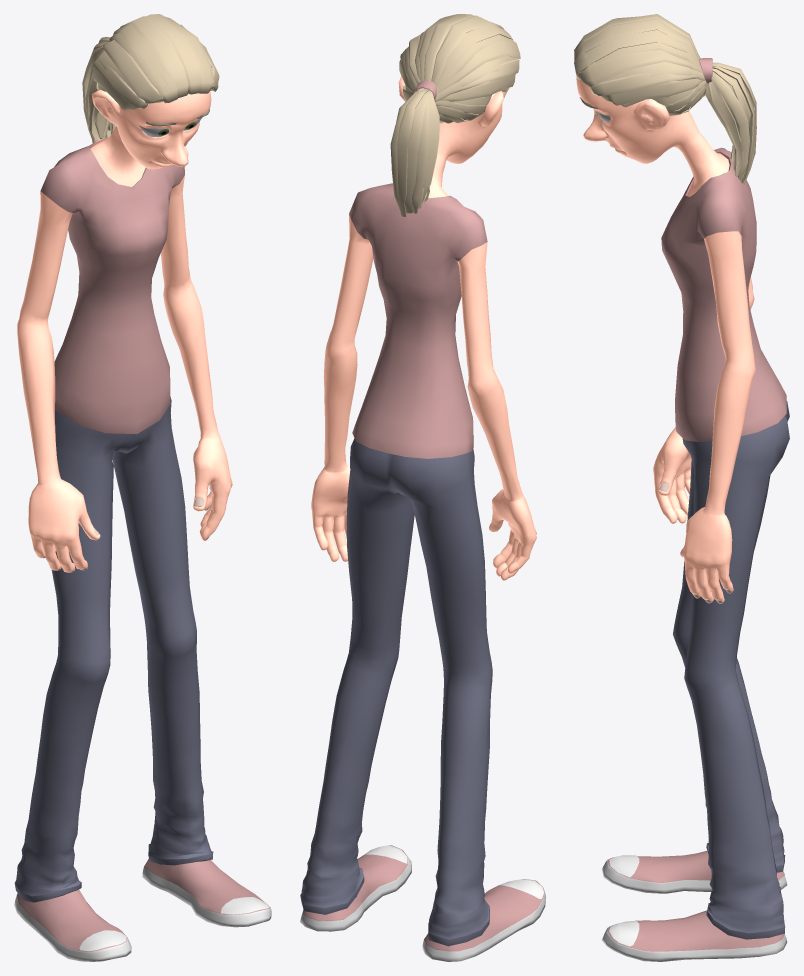
Rendered from female_sadPose (1).fbx.
3 views of the same model, side by side, from view 1: azimuth 30°, elevation 25°; view 2: azimuth 150°, elevation 25°; view 3: azimuth 270°, elevation 25° (orthographic). The views are drawn at different scales.
Parts seen in each view (by area): view 1: eyeBall1Lf; view 2: eyeBall1Lf; view 3: eyeBall1Lf.
Boxes of the visible parts, left/top/right/bottom form: eyeBall1Lf: left=14, top=14, right=271, bottom=961; eyeBall1Lf: left=300, top=14, right=545, bottom=961; eyeBall1Lf: left=574, top=14, right=789, bottom=961.
Size of the model in its own units: 2.1 by 8.54 by 1.88.
